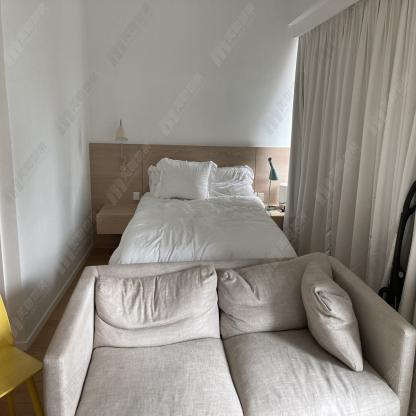Bed: (106, 146, 301, 264)
